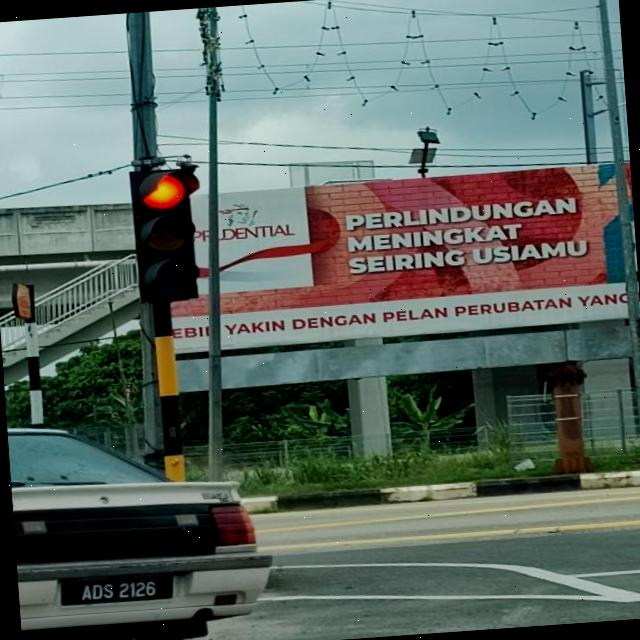red_light: (128, 166, 202, 303)
